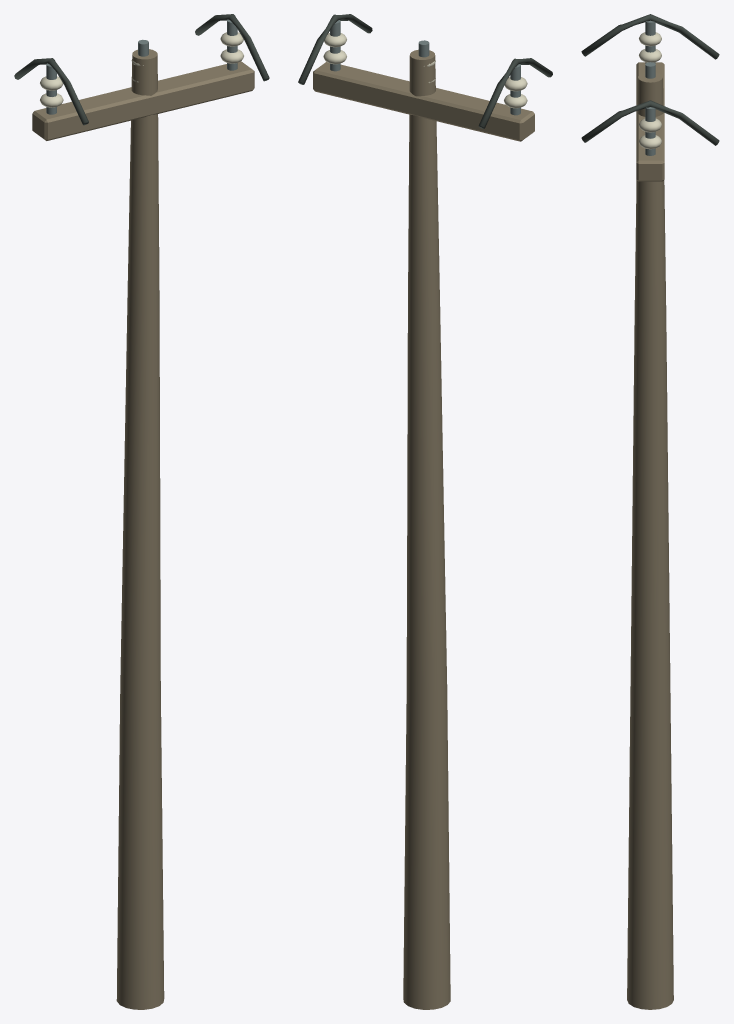
Rendered from 005_wired_utility_pole.glb.
3 views of the same model, side by side, from view 1: azimuth 30°, elevation 25°; view 2: azimuth 150°, elevation 25°; view 3: azimuth 270°, elevation 25° (orthographic). The views are drawn at different scales.
Visible parts, largest first — view 1: Standing_utility_pole, Utility_top_crossarm, PRP-005_insulators, PRP-005_wires; view 2: Standing_utility_pole, Utility_top_crossarm, PRP-005_insulators, PRP-005_wires; view 3: Standing_utility_pole, PRP-005_wires, Utility_top_crossarm, PRP-005_insulators.
Boxes of the visible parts, x1=… form: Standing_utility_pole: x1=116, y1=49, x2=164, y2=1009; Utility_top_crossarm: x1=32, y1=61, x2=254, y2=140; PRP-005_insulators: x1=40, y1=19, x2=243, y2=114; PRP-005_wires: x1=14, y1=14, x2=269, y2=125; Standing_utility_pole: x1=403, y1=49, x2=450, y2=1009; Utility_top_crossarm: x1=313, y1=62, x2=534, y2=141; PRP-005_insulators: x1=323, y1=20, x2=527, y2=115; PRP-005_wires: x1=298, y1=14, x2=552, y2=128; Standing_utility_pole: x1=627, y1=72, x2=673, y2=1009; PRP-005_wires: x1=581, y1=14, x2=719, y2=145; Utility_top_crossarm: x1=636, y1=62, x2=664, y2=181; PRP-005_insulators: x1=638, y1=20, x2=661, y2=155.
Bounding box in the file's own units: 1.42 × 6.22 × 0.8255.
